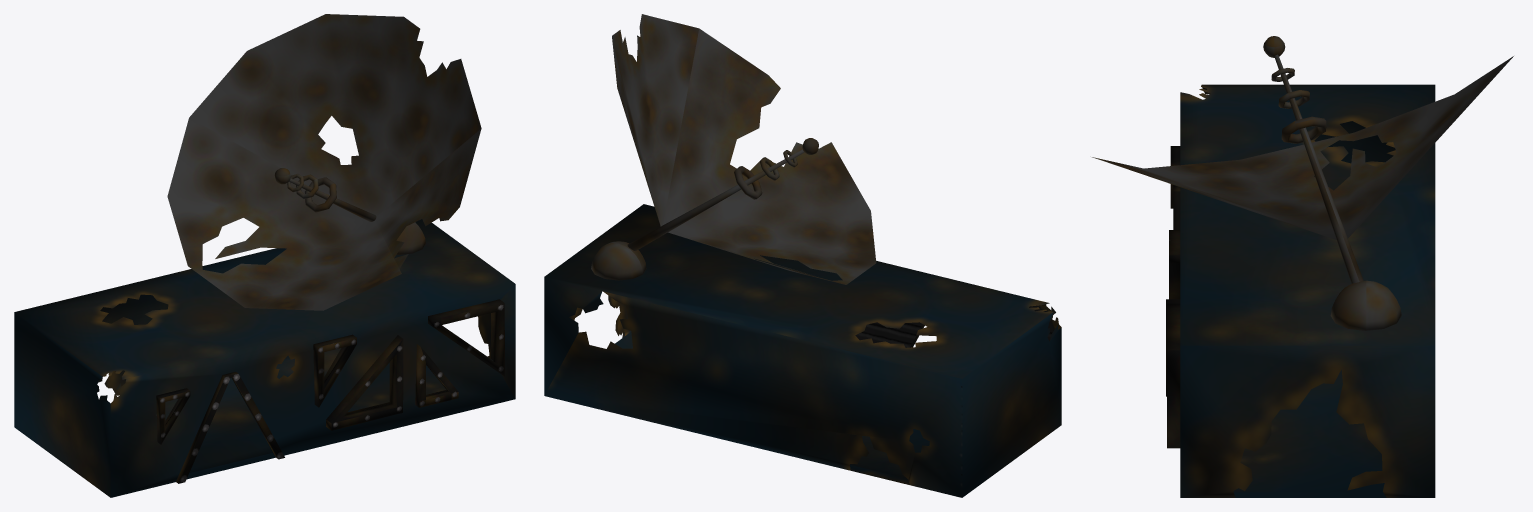
File: BASE animations.fbx_Collection.fbx
3 renders of one model, left to right at view 1: azimuth 30°, elevation 25°; view 2: azimuth 150°, elevation 25°; view 3: azimuth 270°, elevation 25°, orthographic. The views are drawn at different scales.
Parts seen in each view (by area): view 1: Cube, Cone, Cube.001, Torus, Sphere, Cylinder; view 2: Cube, Cone, Sphere, Cylinder, Torus; view 3: Cube, Cone, Cube.001, Sphere, Cylinder, Torus.
Boxes of the visible parts, x1,y1,x2,y2 form: Cube: (14, 219, 515, 497); Cone: (167, 14, 481, 310); Cube.001: (156, 299, 504, 483); Torus: (287, 173, 336, 212); Sphere: (396, 222, 425, 254); Cylinder: (289, 178, 376, 221); Cube: (544, 204, 1061, 497); Cone: (612, 14, 876, 284); Sphere: (591, 241, 646, 280); Cylinder: (627, 149, 804, 250); Torus: (734, 150, 797, 199); Cube: (1180, 84, 1435, 497); Cone: (1092, 56, 1513, 239); Cube.001: (1166, 146, 1180, 448); Sphere: (1330, 280, 1401, 330); Cylinder: (1274, 54, 1363, 283); Torus: (1271, 68, 1326, 143).
Size of the model in its own units: 5586 by 3876 by 4484.
Materials: 7 (7 with a texture image).
